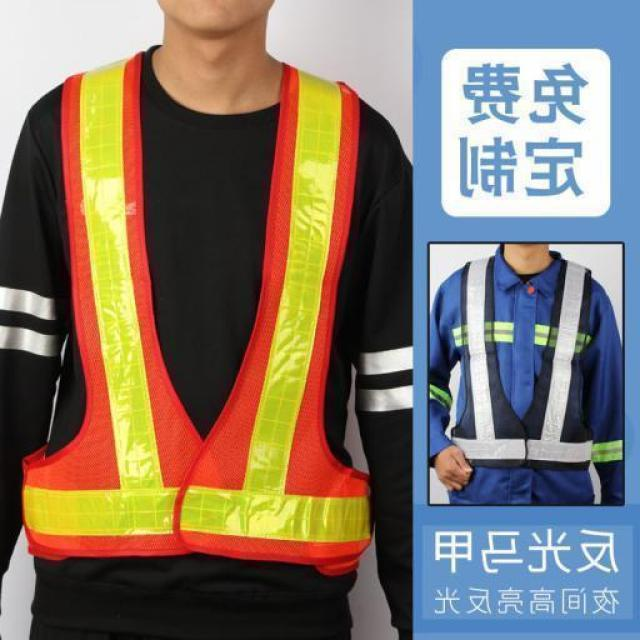vest: (18, 49, 378, 567), (456, 254, 596, 470)
